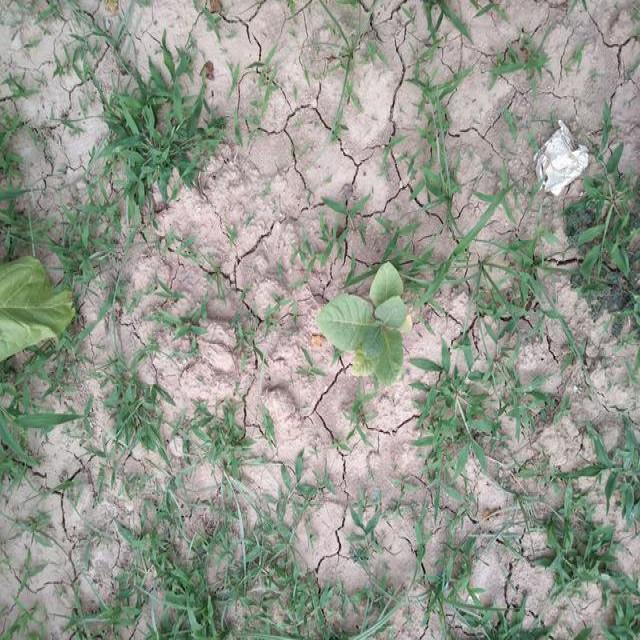crop: (320, 259, 410, 387), (0, 244, 69, 358)
